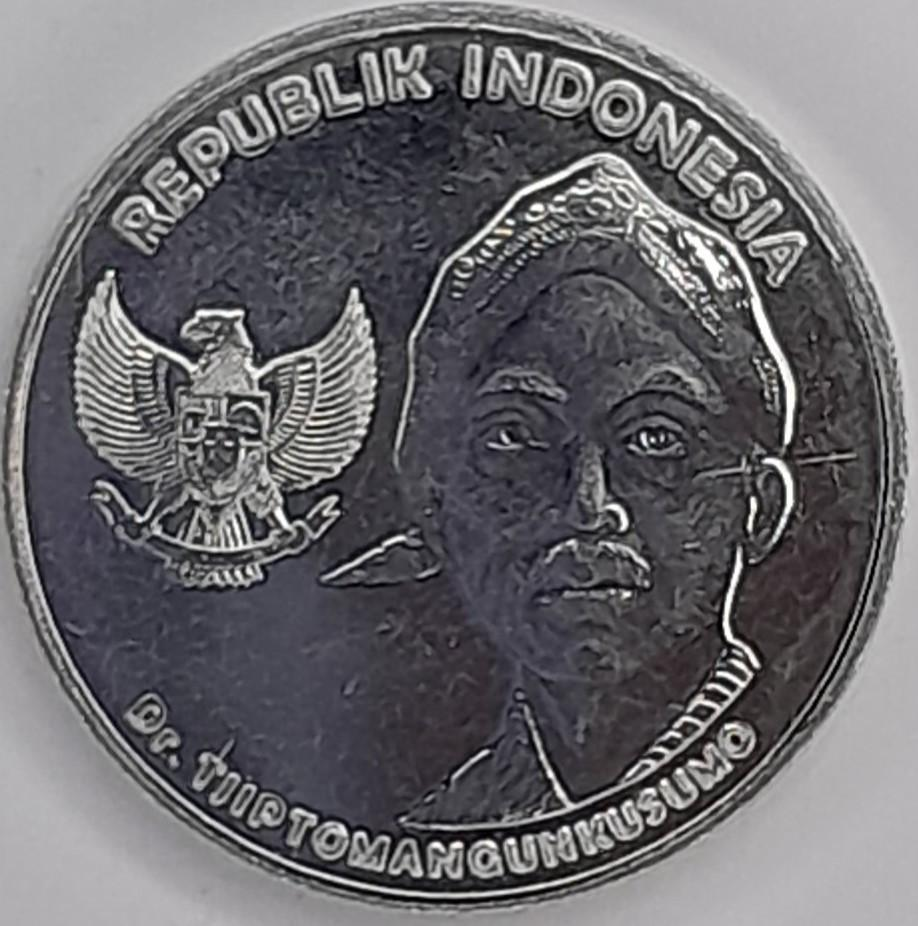coin_200_e2016: (0, 16, 918, 926)
